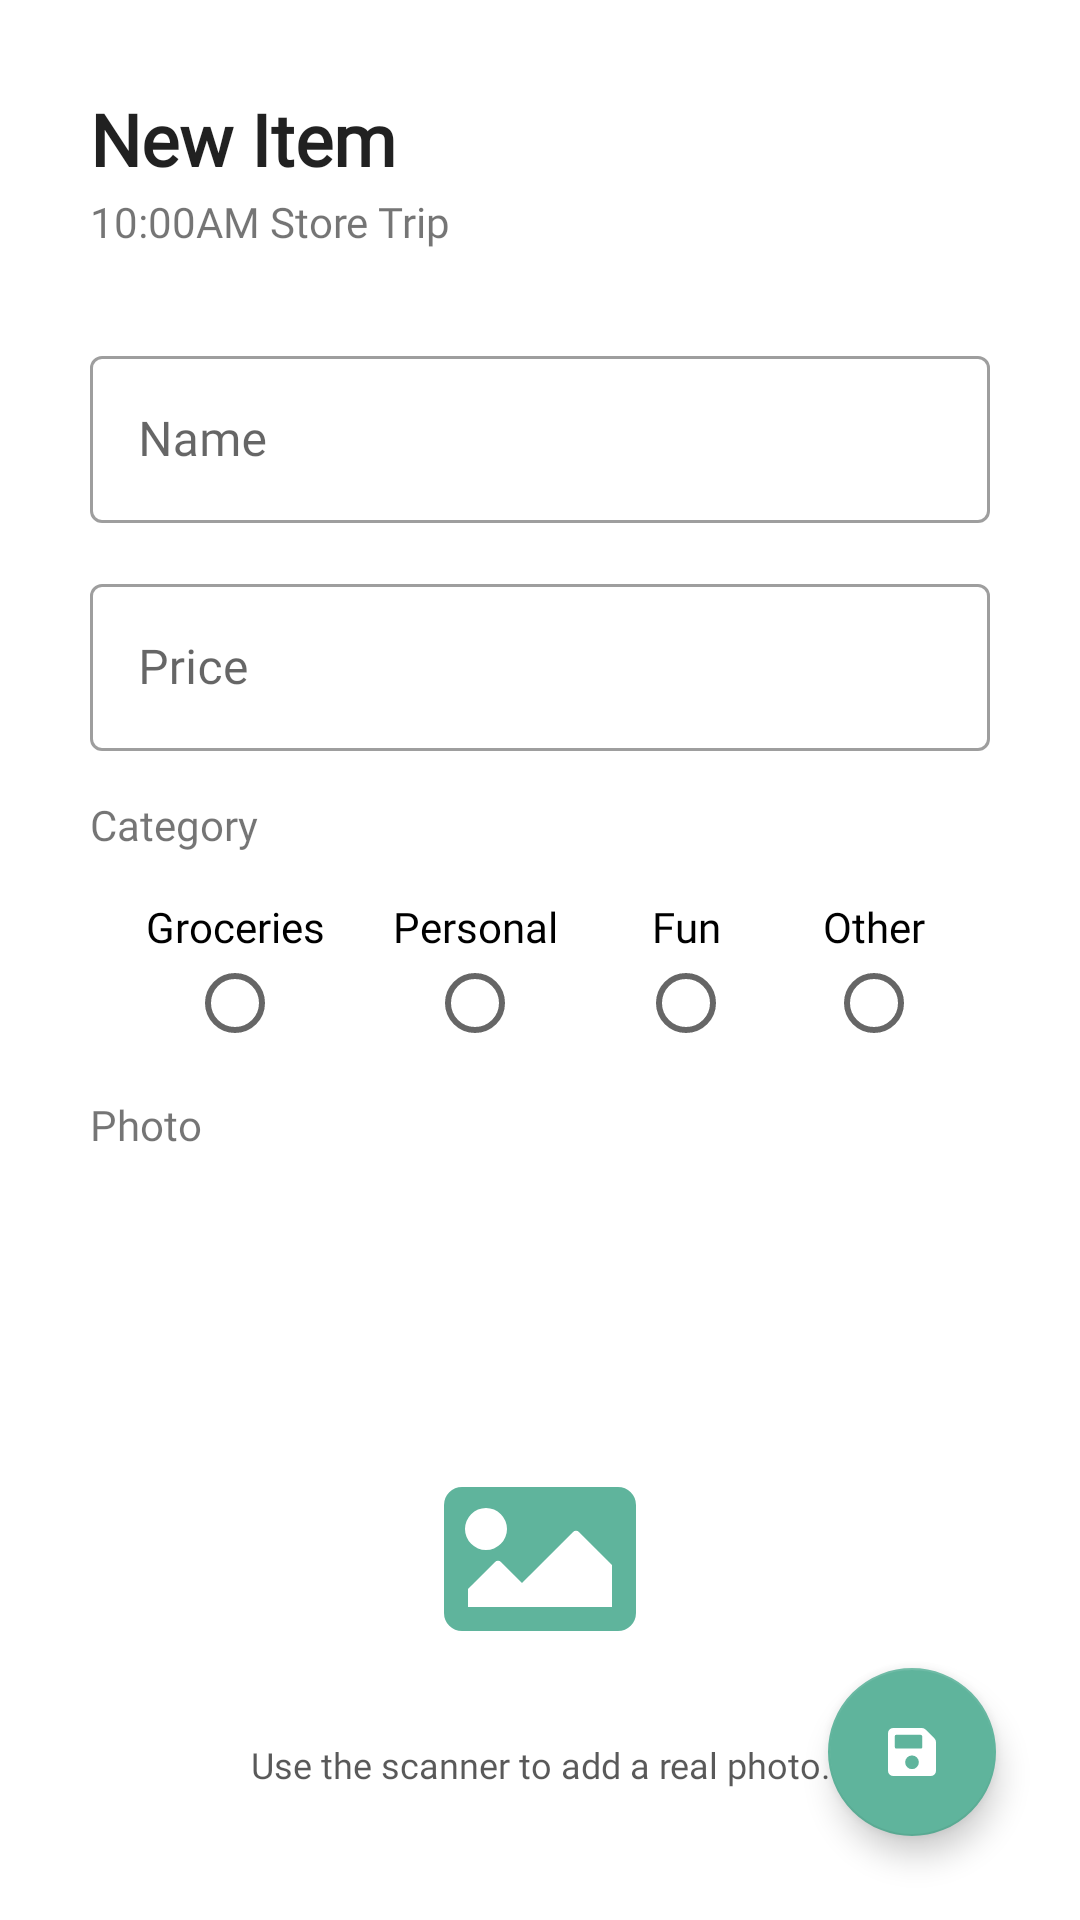

Where to tap for icons on this 1080x1920 app screen, as [x,y]:
save: [912,1752]
